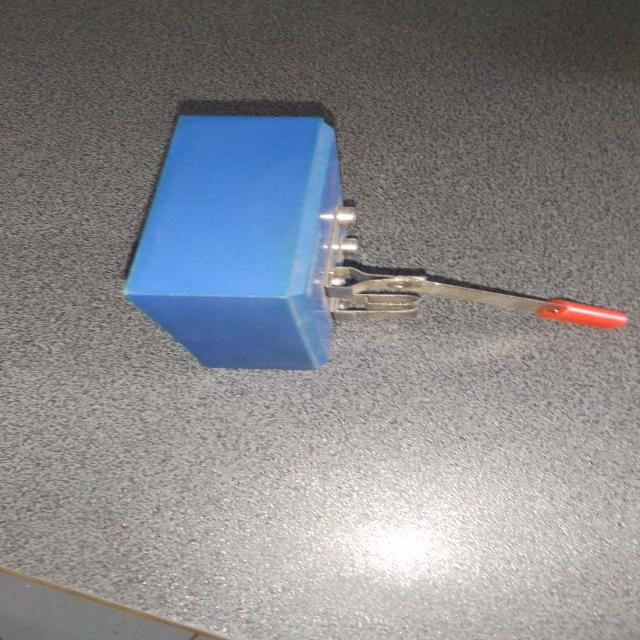L Switch: (74, 101, 640, 382)
